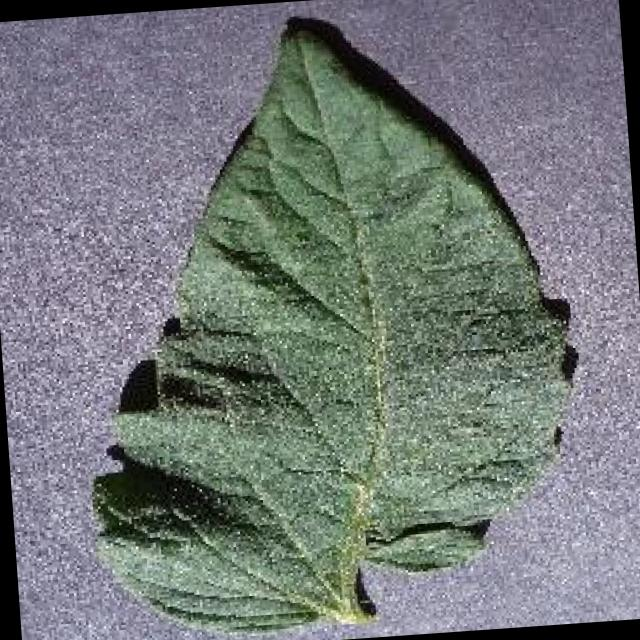Tomato_Healthy: (51, 4, 592, 633)
